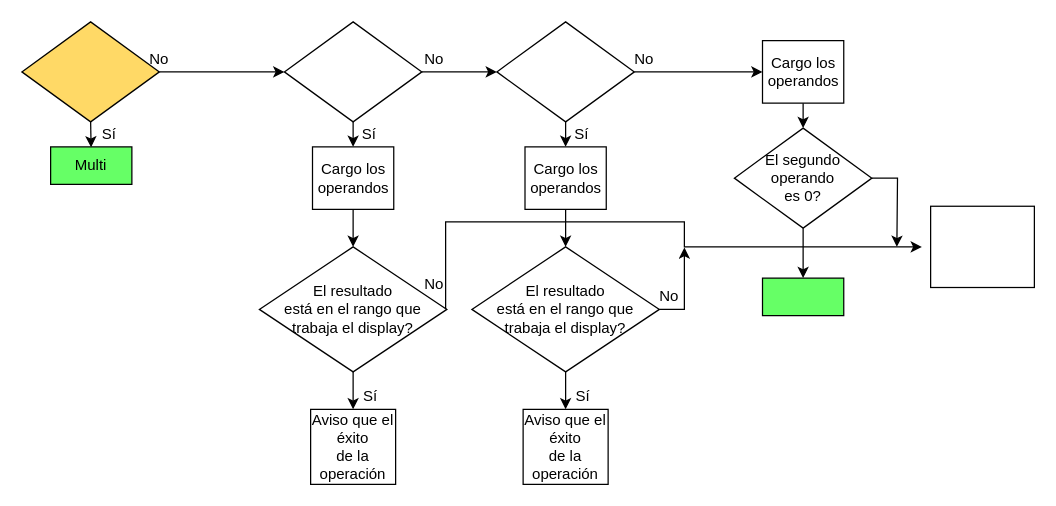
The diagram is 1056 pixels wide and 506 high, and some of its shapes have lost their labels. Here are the shapes that lost their labels. From the top down, the box of each, then its label:
(21, 21, 159, 122): El operador es "*"?
(283, 21, 422, 122): El operador es "+"?
(496, 21, 634, 122): El operador es "-"?
(929, 205, 1034, 288): Indico que hay error en la operación
(761, 277, 844, 316): Division
